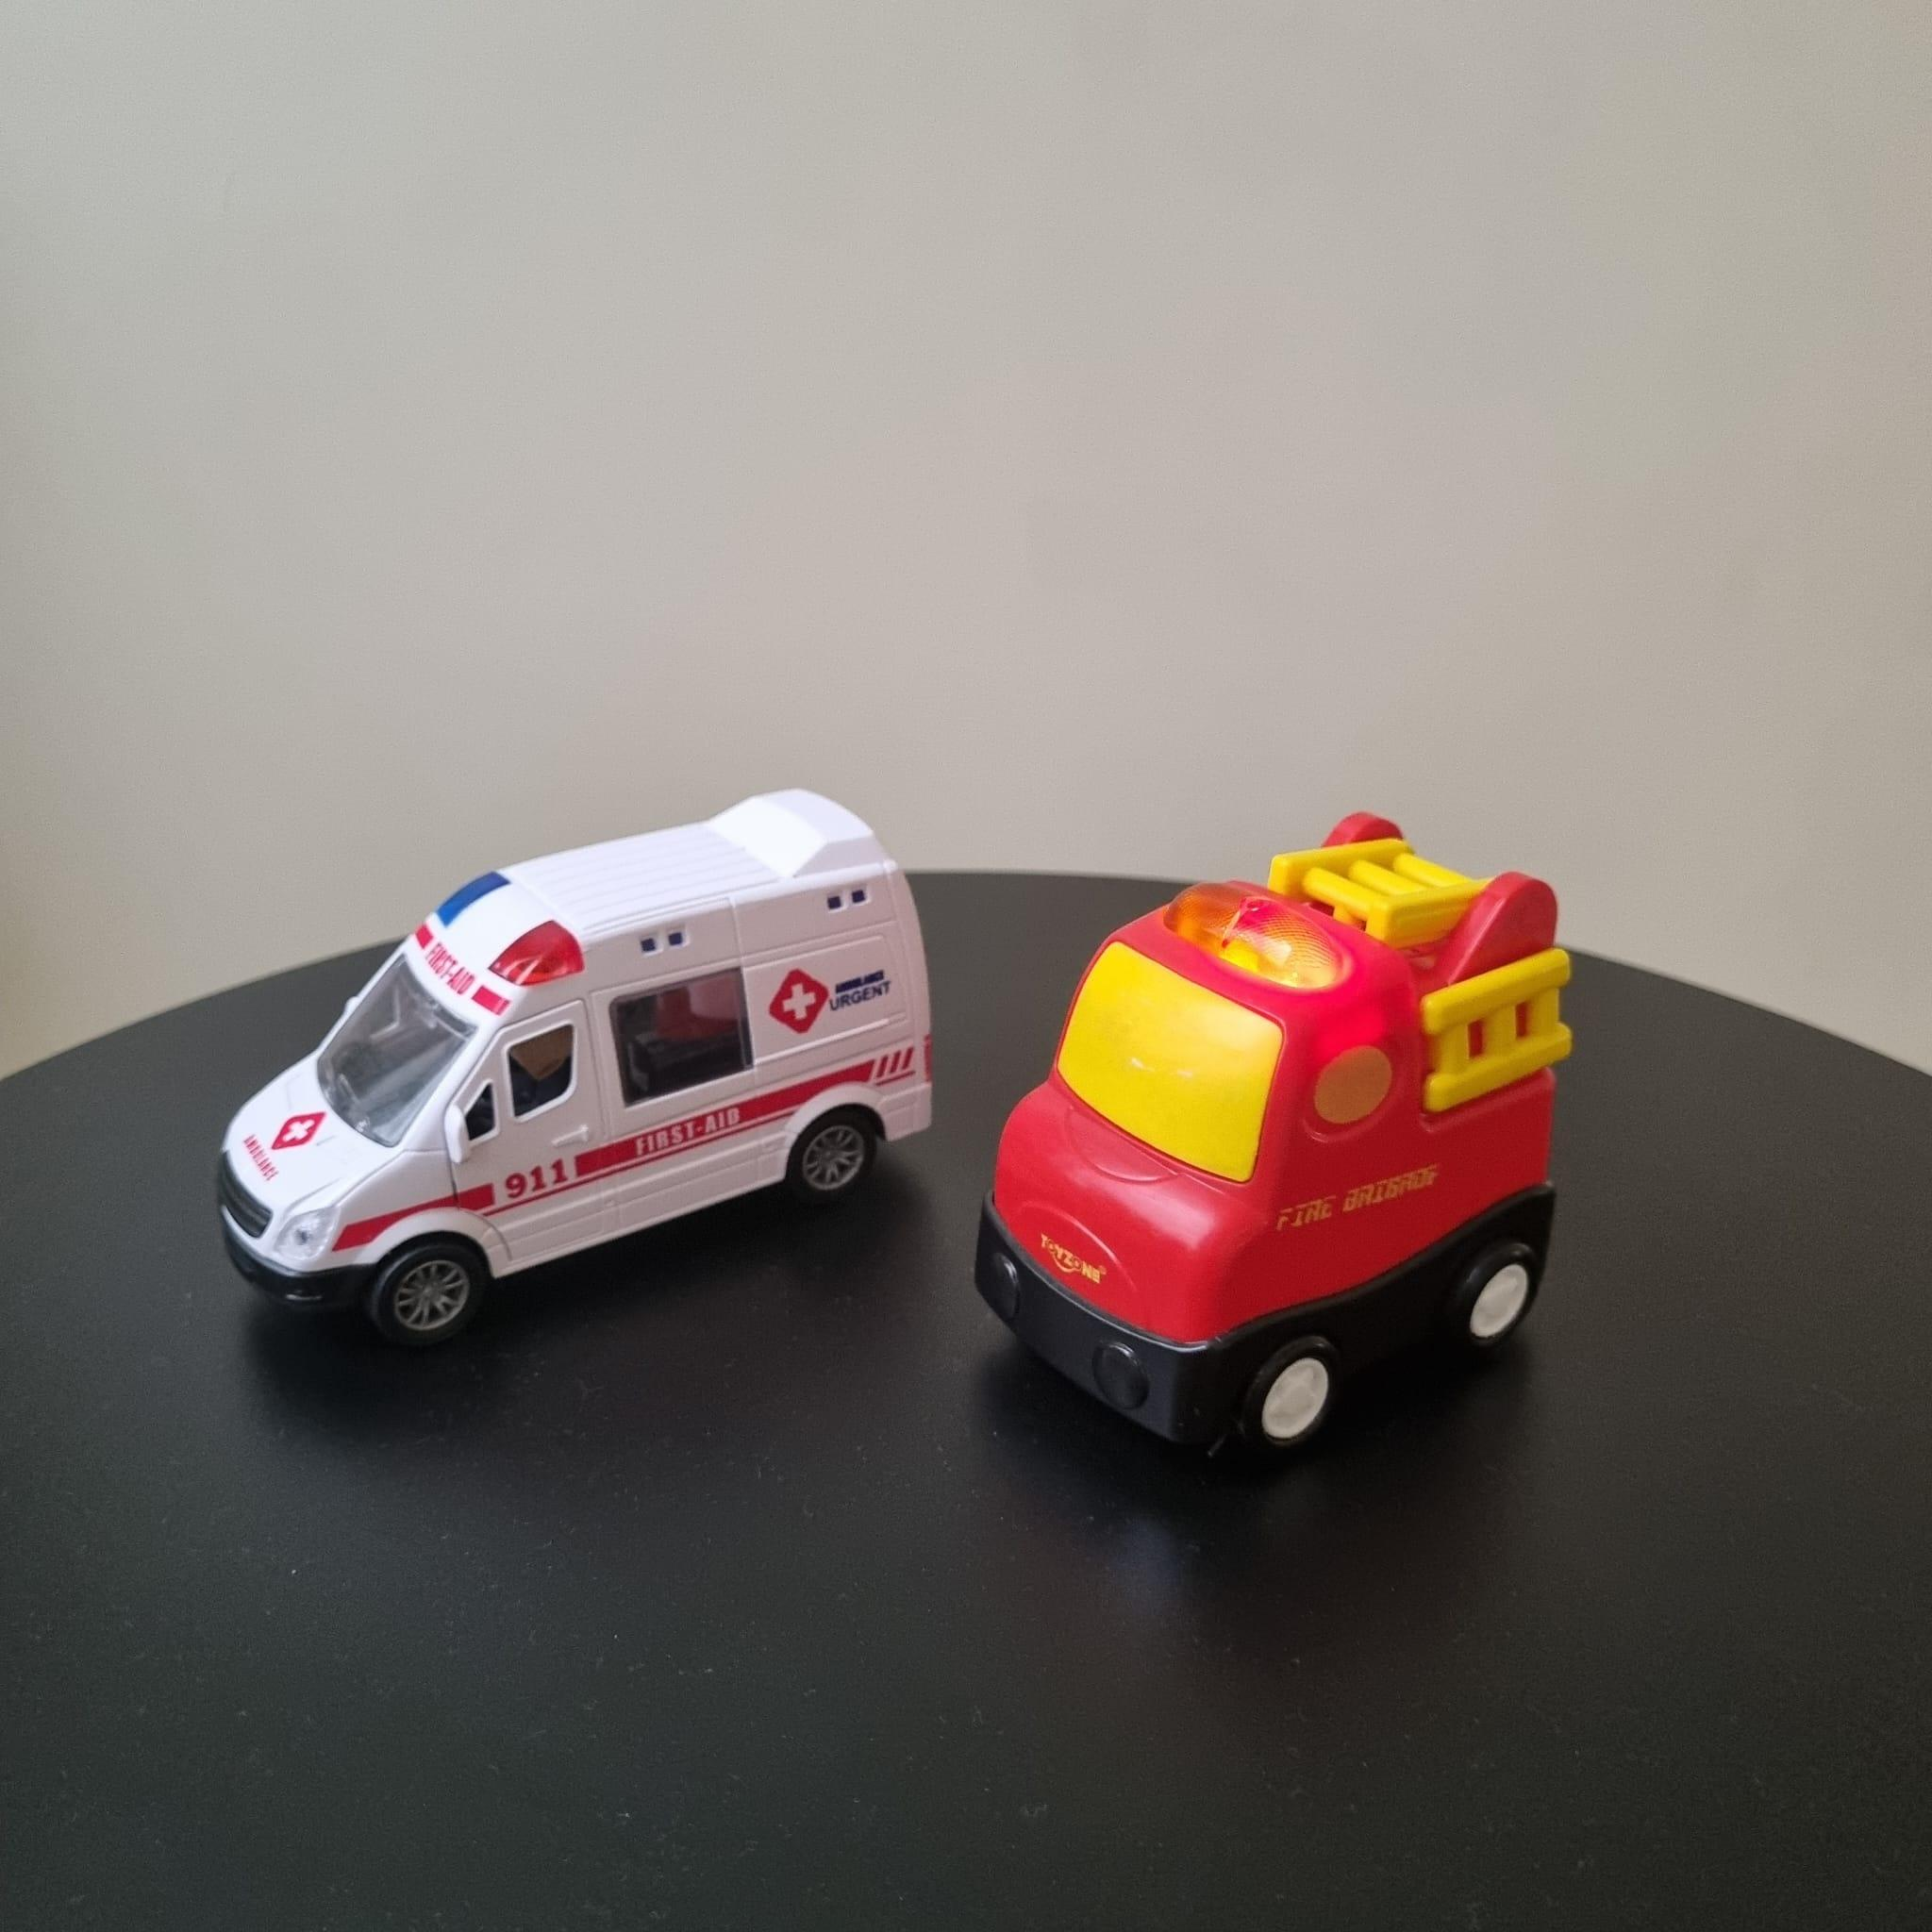ambulance_off: (214, 777, 939, 1330)
firetruck_off: (977, 803, 1573, 1481)
